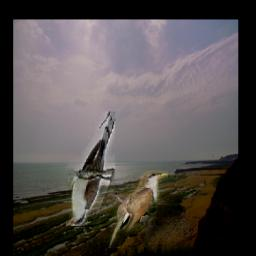Cuckoo: (66, 112, 115, 226), (106, 171, 168, 248)
